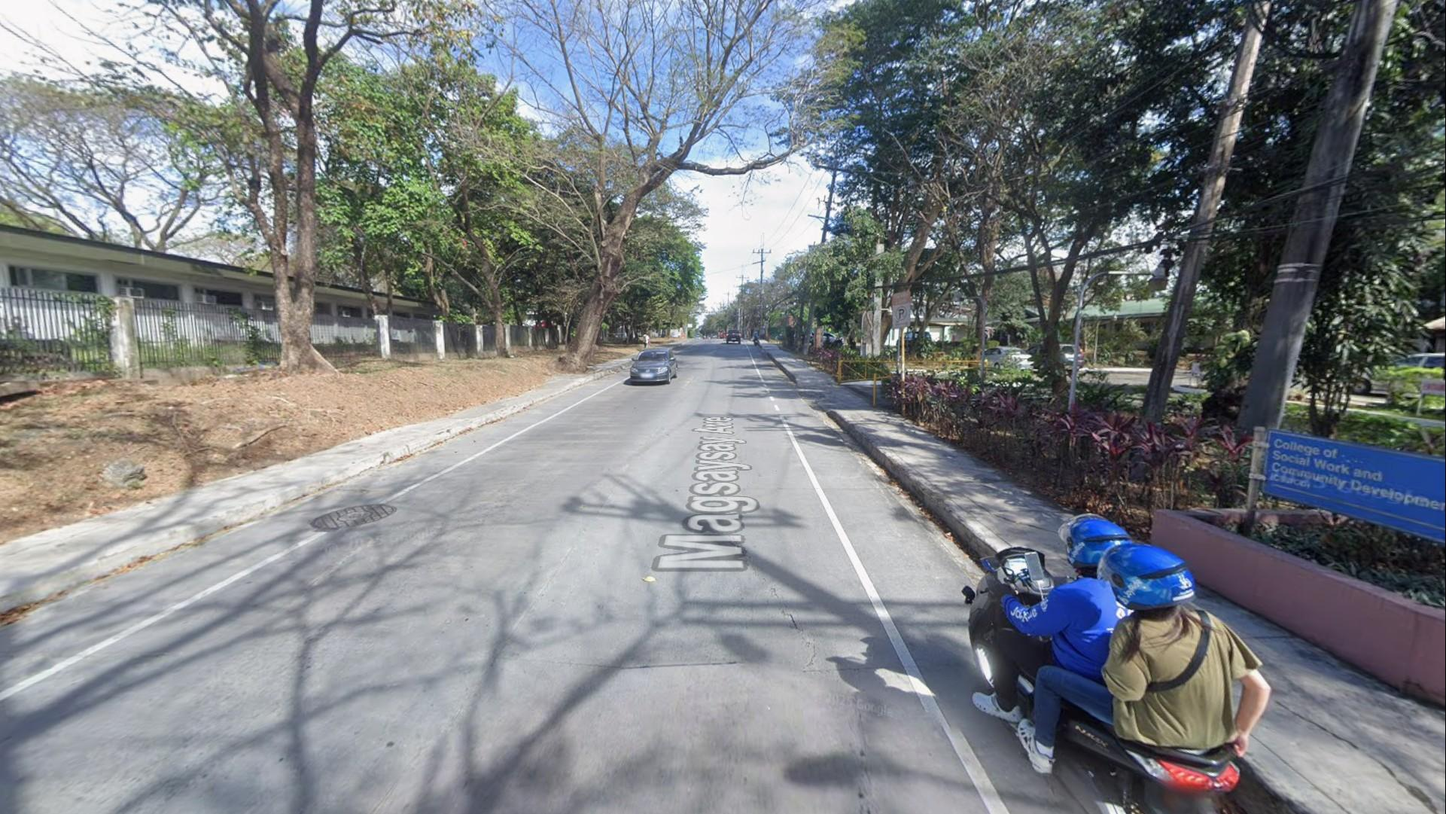pedestrian: (642, 331, 650, 351)
